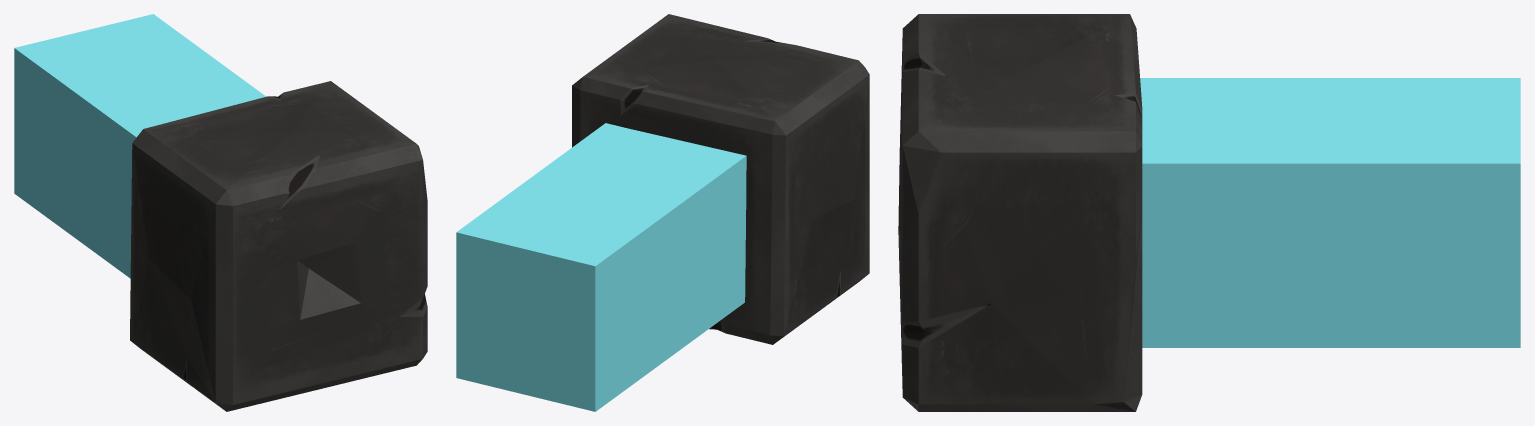
File: gaussmeter_move.obj
3 views of the same model, side by side, from view 1: azimuth 30°, elevation 25°; view 2: azimuth 150°, elevation 25°; view 3: azimuth 270°, elevation 25° (orthographic). The views are drawn at different scales.
Parts seen in each view (by area): view 1: gaussmeter_move; view 2: gaussmeter_move; view 3: gaussmeter_move.
Part boxes in pixels (box(x1,y1,x2,y2)): gaussmeter_move: box(14, 14, 427, 411); gaussmeter_move: box(456, 14, 869, 411); gaussmeter_move: box(898, 14, 1520, 411).
Size of the model in its own units: 0.7721 by 0.7704 by 1.49.
